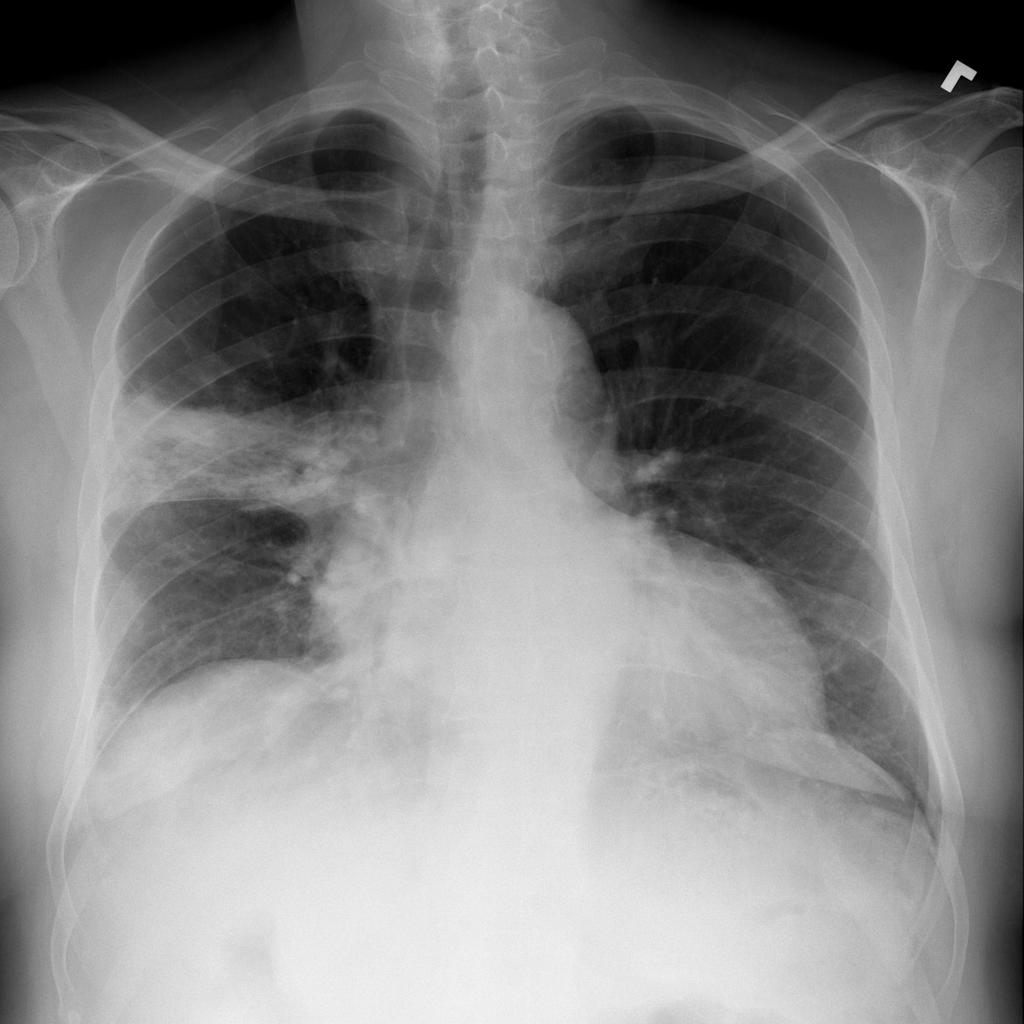Cardiomegaly: (336, 450, 831, 756)
